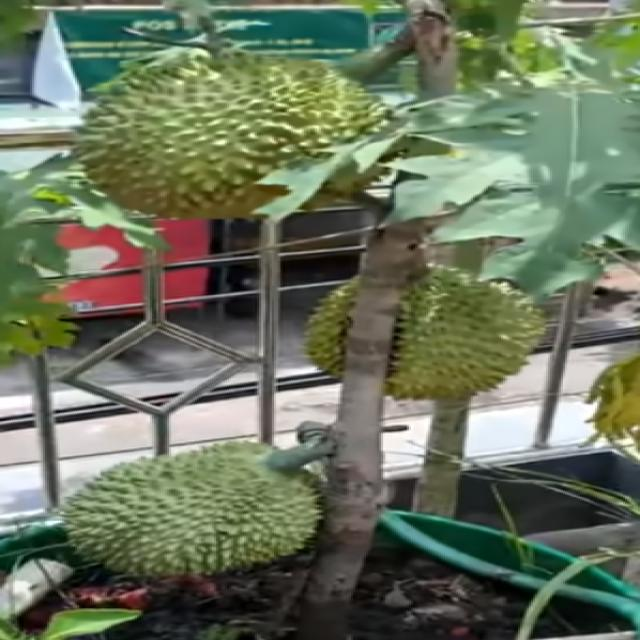immature: (80, 50, 382, 220), (46, 440, 330, 580), (307, 265, 546, 407)
